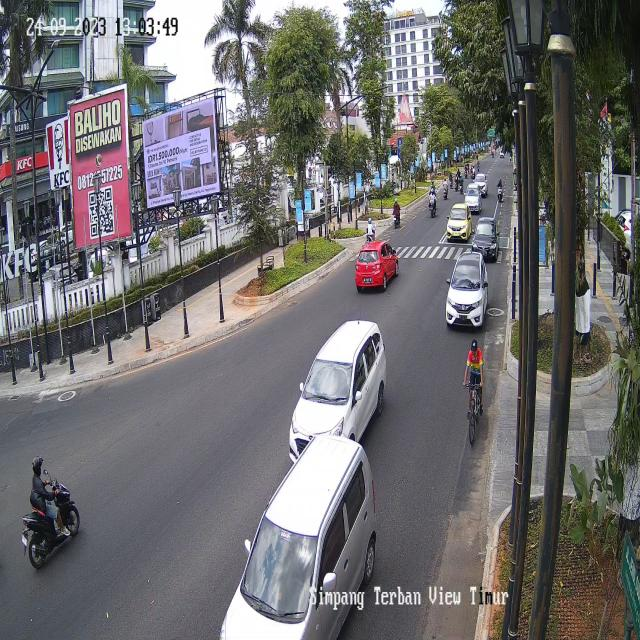car: (217, 432, 377, 640), (287, 318, 387, 466), (446, 252, 488, 332), (355, 240, 398, 291), (473, 218, 503, 262), (448, 203, 472, 242), (464, 182, 482, 216), (475, 173, 487, 196)
motorcycle: (21, 455, 81, 565), (366, 216, 376, 242), (393, 198, 401, 230), (429, 190, 437, 218), (497, 177, 503, 203), (442, 176, 448, 202), (459, 174, 463, 196), (430, 179, 435, 195), (454, 172, 458, 192), (449, 172, 453, 188)
